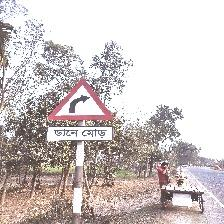Right-turn: (46, 78, 115, 144)
